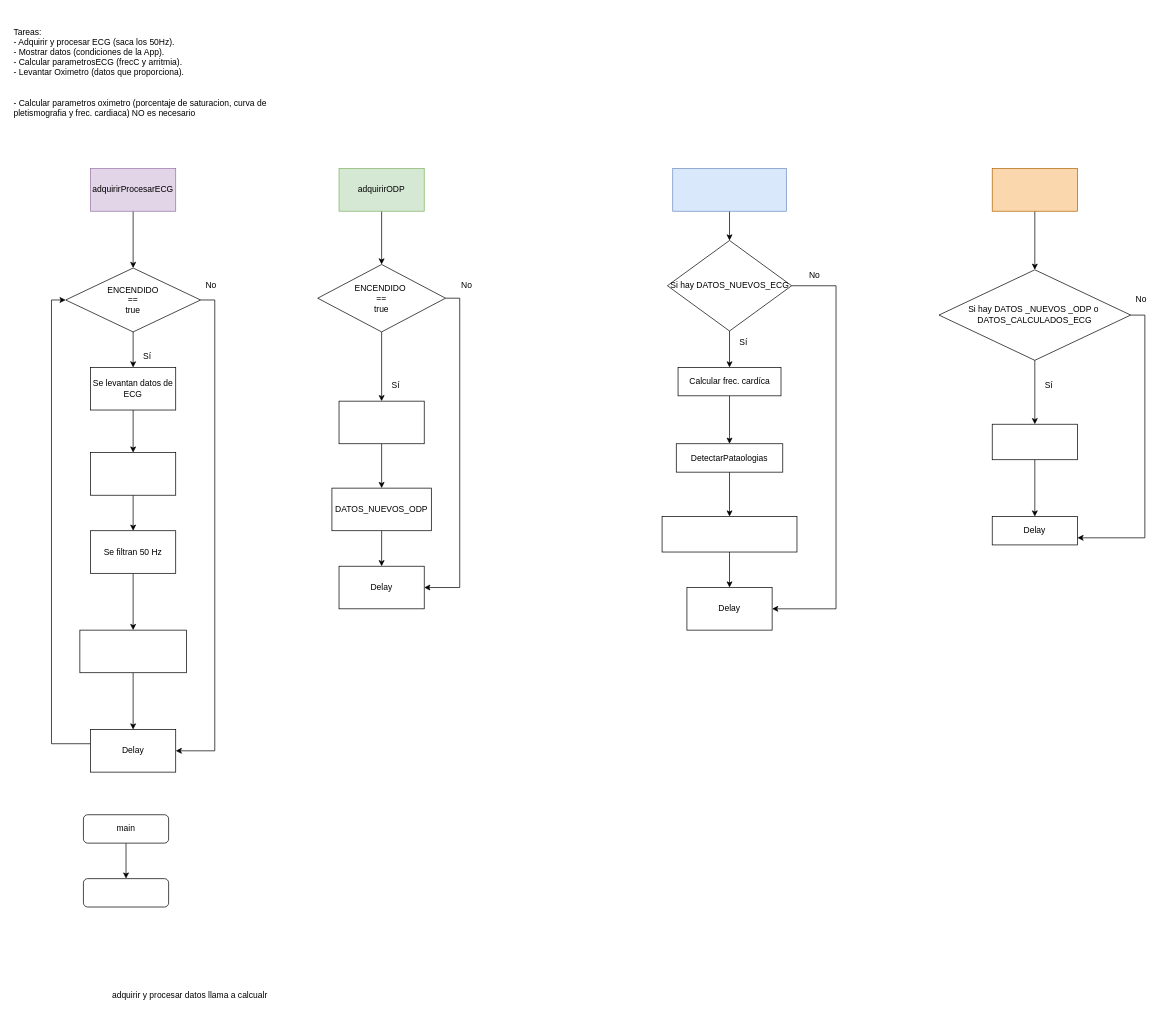
Some shapes in this 1174 by 1018 pixel diagram are drawn without their labels. Here are the shapes that lost their labels. From the top down, the box of each, then its label:
(672, 168, 786, 211): calcularParametrosECG
(992, 168, 1077, 211): mostrarDatos
(338, 400, 424, 444): Se adquieren los datos de ODP
(992, 424, 1077, 460): EnviarDatos
(90, 452, 176, 495): Se filtra contínua
(661, 516, 797, 552): Notifica DATOS_CALCULADOS_ECG
(79, 629, 186, 673): DATOS_NUEVOS_ECG
(83, 878, 169, 907): iniciar
